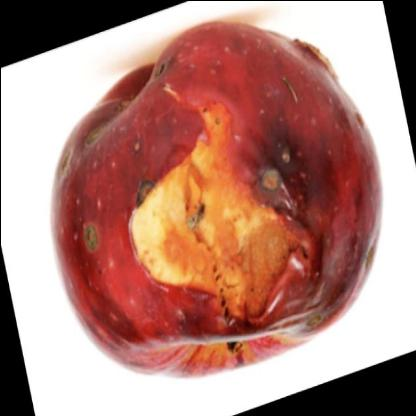defect: (129, 82, 301, 334), (61, 77, 99, 255)
